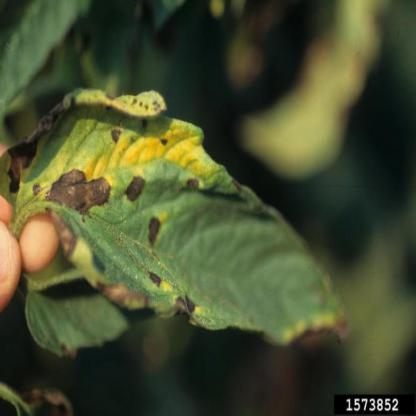Potato leaf early blight: (11, 87, 357, 349)
